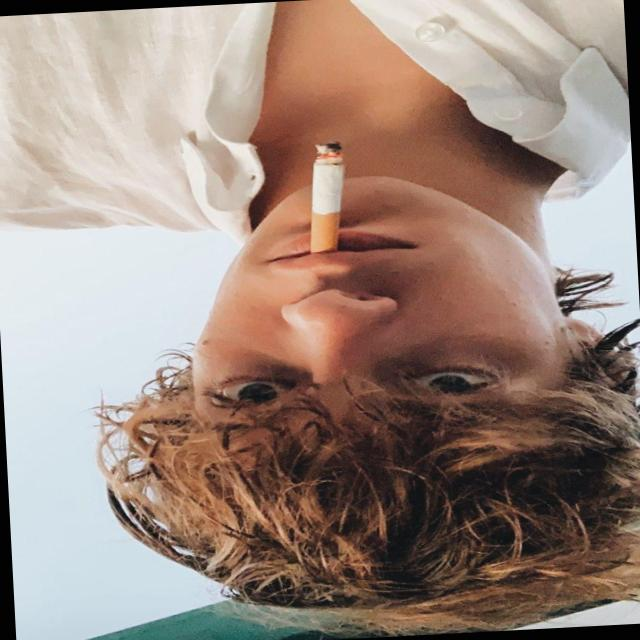cigarette: (282, 139, 385, 273)
